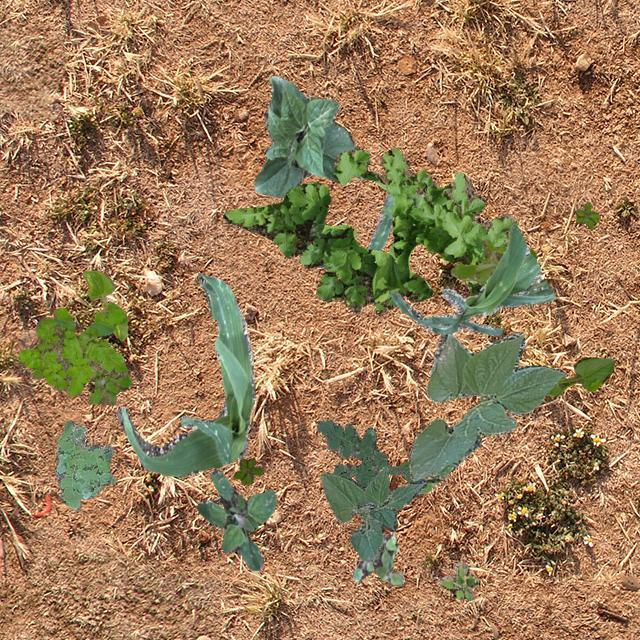crop: (115, 272, 254, 476), (408, 332, 564, 492), (390, 224, 556, 336), (254, 74, 362, 196), (320, 466, 426, 560), (316, 192, 394, 268), (82, 270, 126, 340), (546, 356, 614, 394)
weed: (222, 146, 518, 312), (18, 300, 128, 396), (196, 468, 276, 570), (315, 420, 411, 484), (54, 420, 115, 510), (450, 238, 534, 284), (86, 338, 130, 404), (352, 532, 404, 584), (438, 562, 478, 600), (232, 458, 262, 483), (574, 202, 598, 228)
